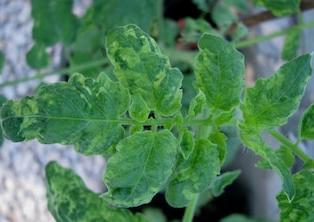Tomato leaf mosaic virus: (0, 72, 137, 158), (106, 22, 183, 120), (103, 124, 186, 211), (234, 52, 313, 135), (194, 22, 247, 114)
